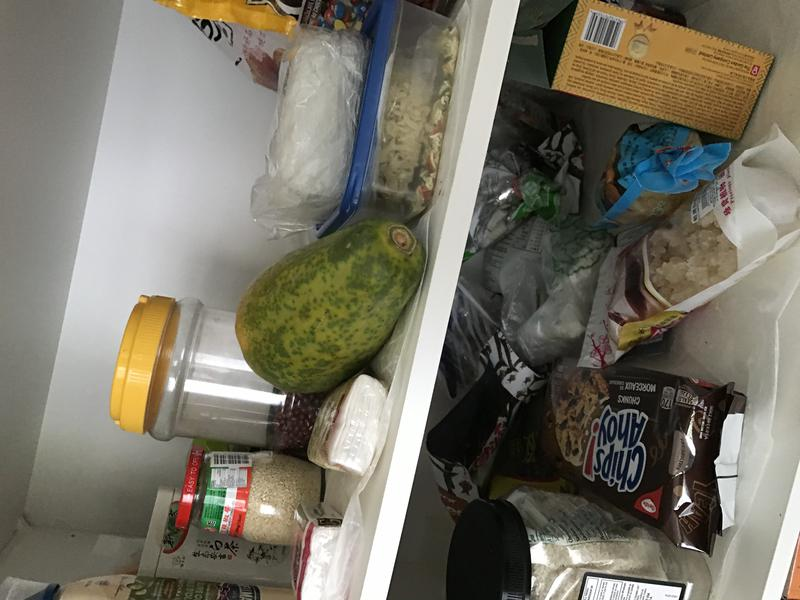papaya: (226, 213, 432, 405)
